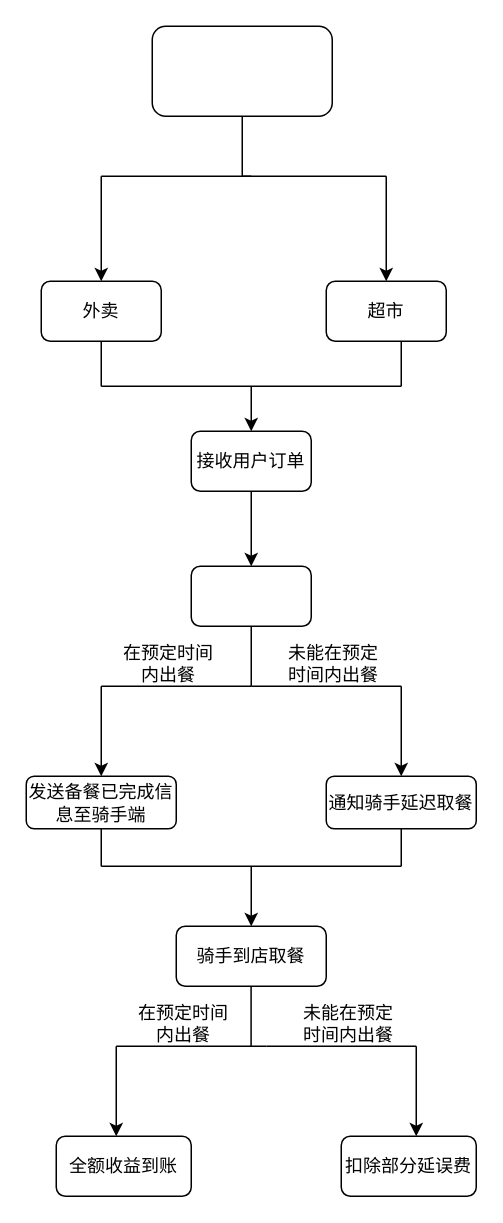
This 503x1223 diagram has some shape labels left out. Here are the shapes that lost their labels. From the top down, the centre of each, then its label:
At (241,70): "选择店铺种类".
At (250,595): "显示骑手预计到店时间".
